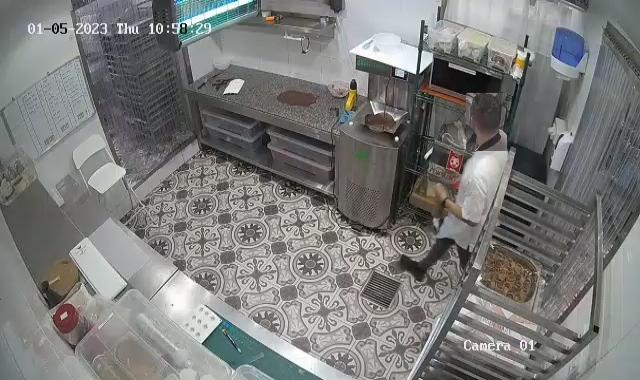no_hairnet: (470, 92, 507, 132)
